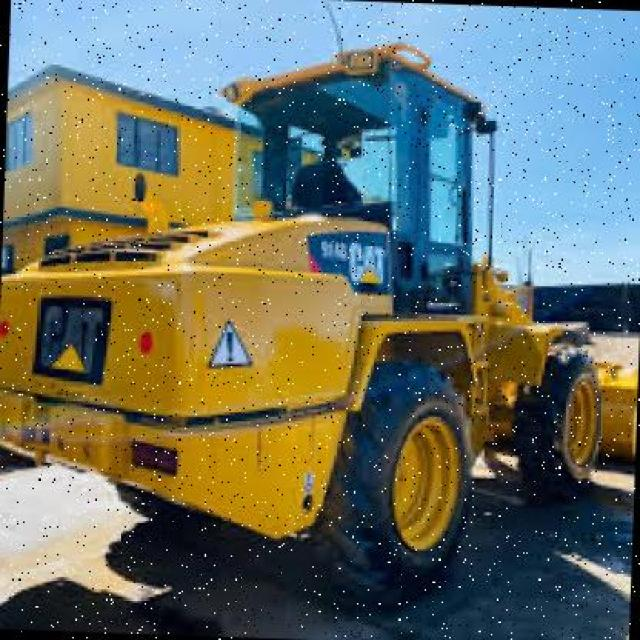buldozerpayloadergrader: (0, 23, 618, 601)
